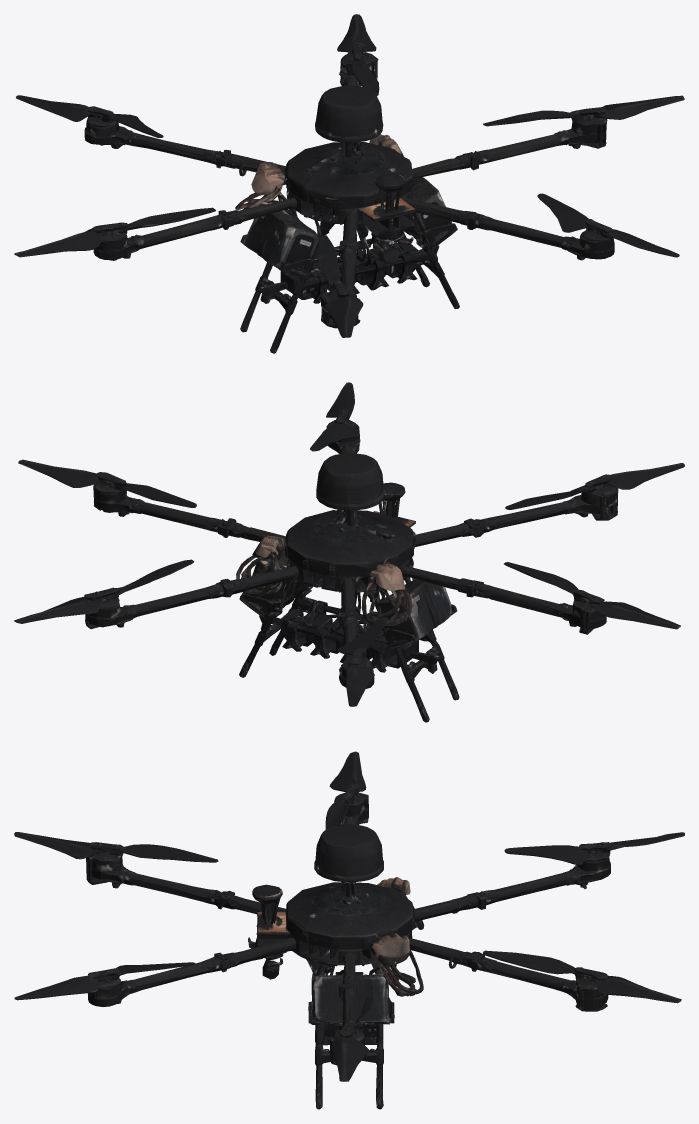
File: mship.glb
3 renders of one model, top to bottom at view 1: azimuth 30°, elevation 25°; view 2: azimuth 150°, elevation 25°; view 3: azimuth 270°, elevation 25°, orthographic.
Parts seen in each view (by area): view 1: mesh_node; view 2: mesh_node; view 3: mesh_node.
Part boxes in pixels (x1,y1,x2,y2): mesh_node: (14, 14, 684, 353); mesh_node: (14, 382, 684, 722); mesh_node: (14, 751, 684, 1109).
Bounding box in the file's own units: 1.9 × 0.6199 × 1.64.
Materials: 1 (1 with a texture image).
